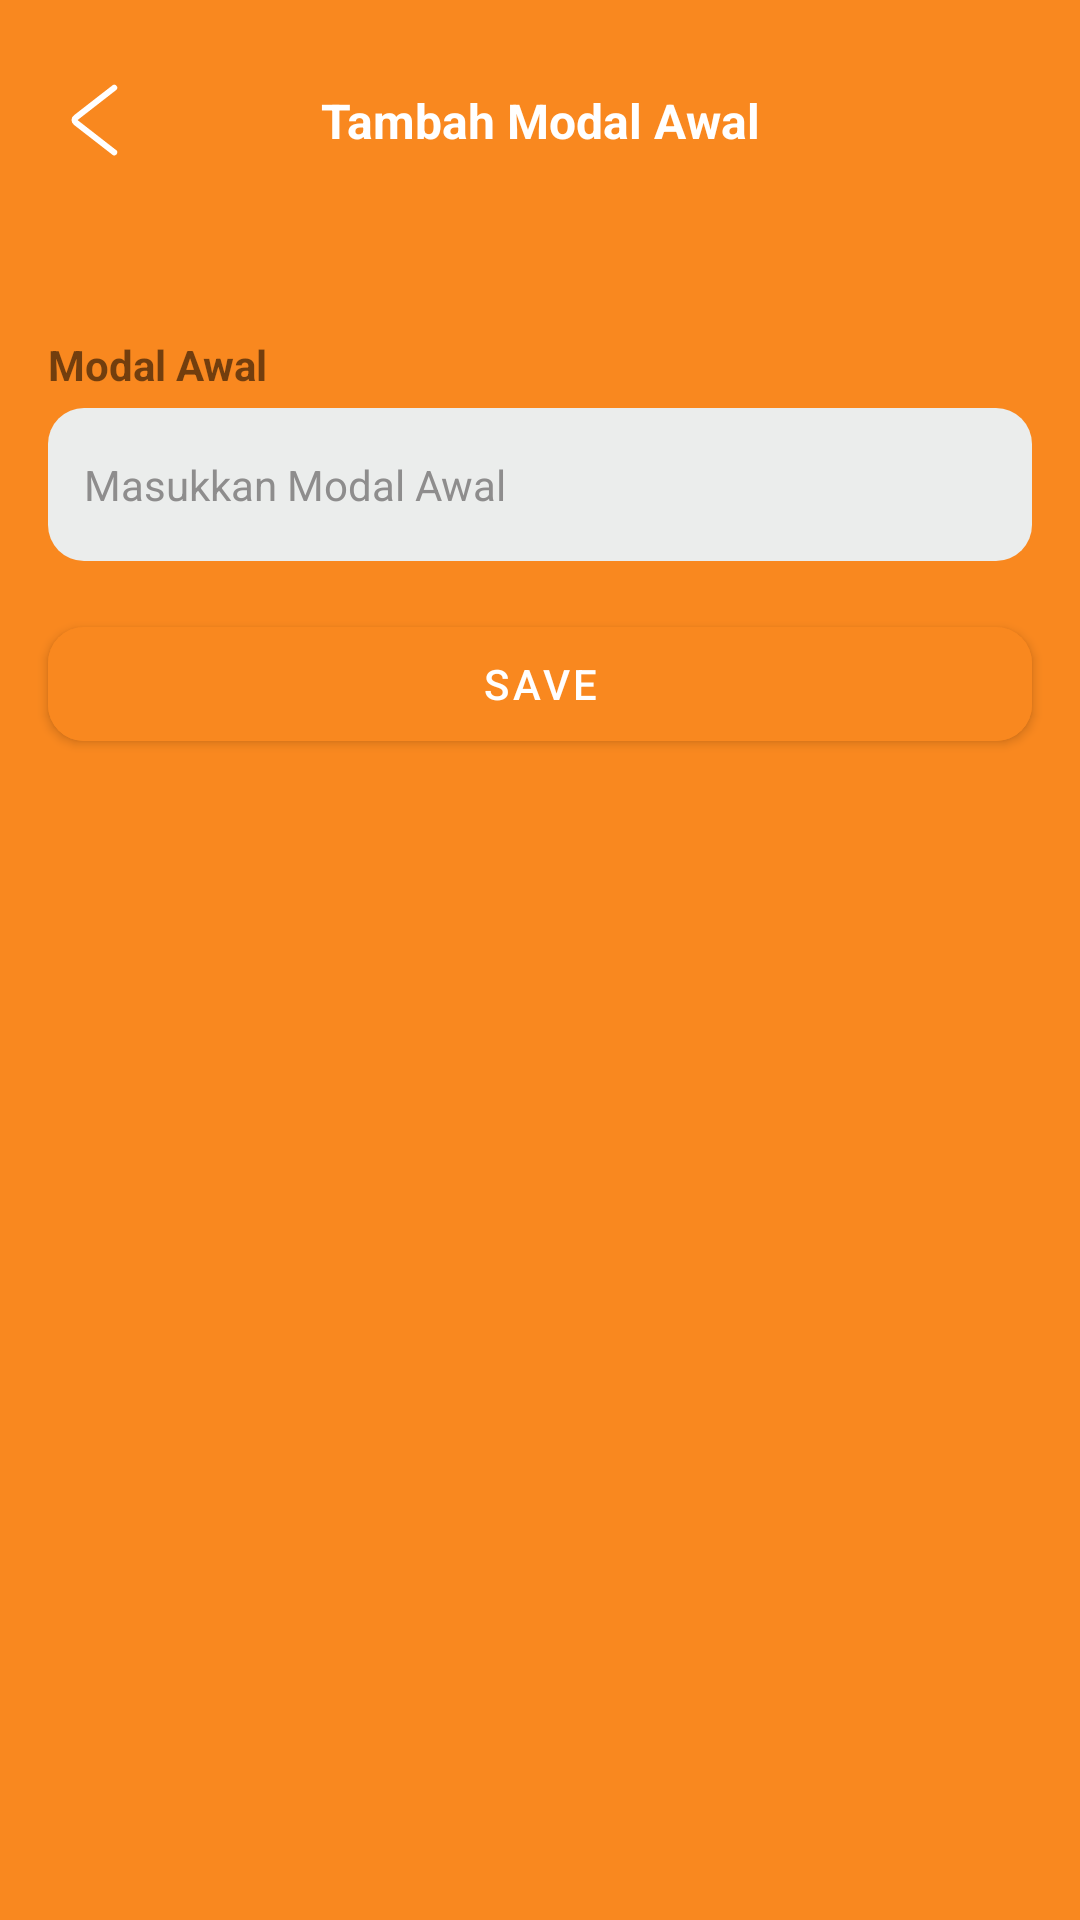

Point at icon controls on the screen. Image size 1080px×1920px, points as (x=x, y=y).
arrow left: (x=94, y=120)
